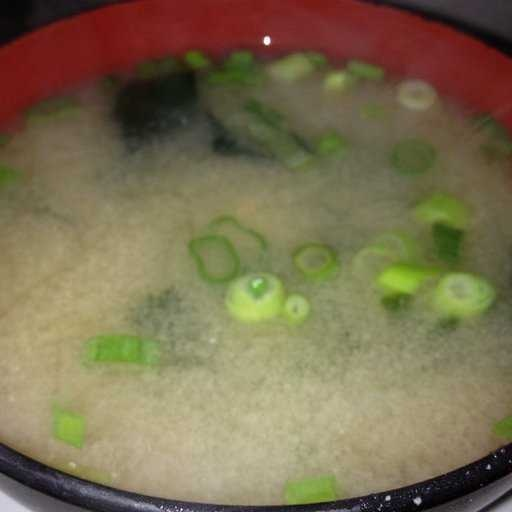soup: (1, 21, 498, 468)
